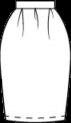Hemline: (5, 119, 66, 122)
Waistline: (15, 7, 53, 9), (16, 0, 54, 1)
